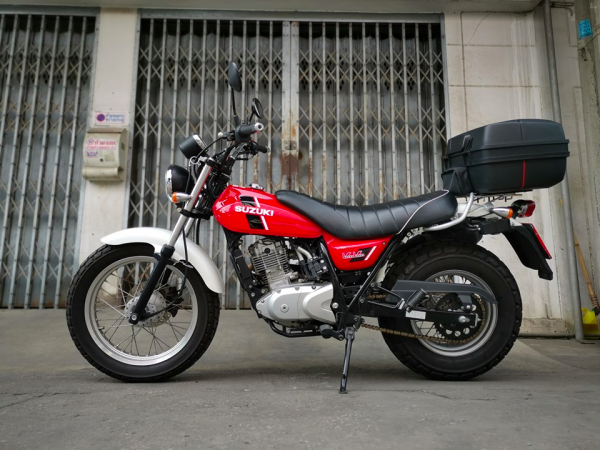motorcycle: (62, 62, 567, 386)
